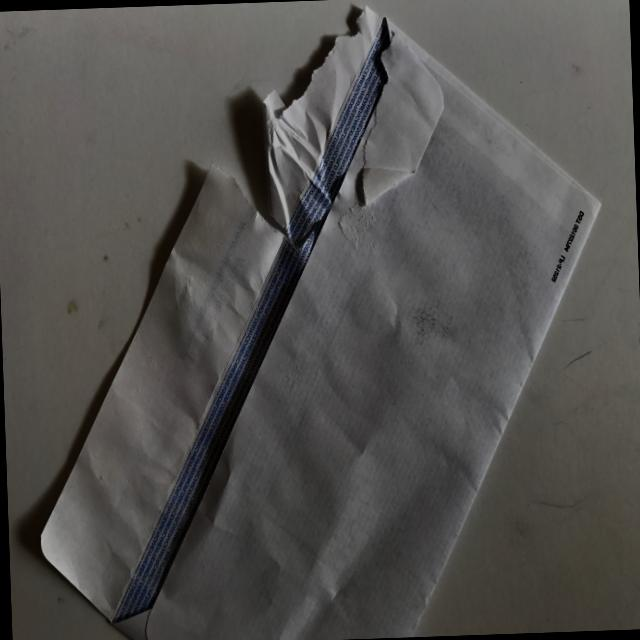Paper: (18, 0, 616, 640)
